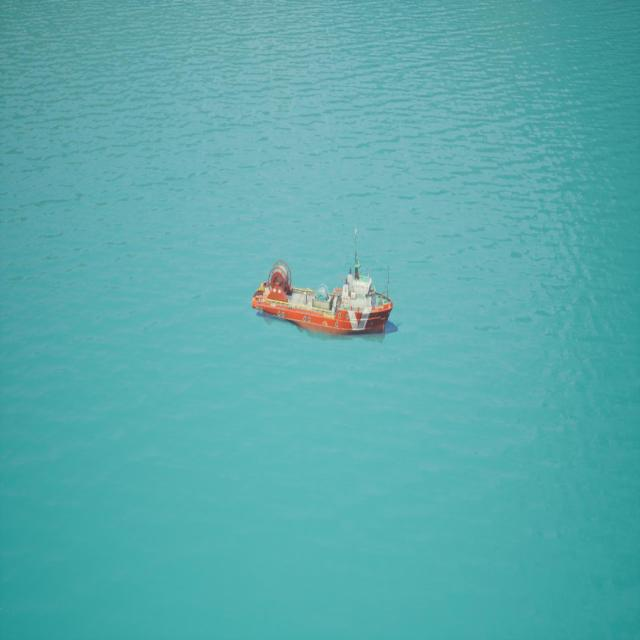tug boat: (254, 249, 396, 338)
